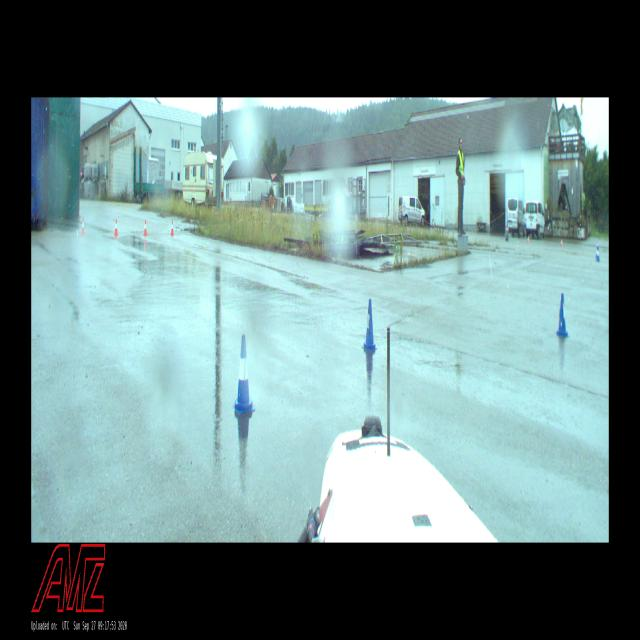blue_cone: (233, 335, 254, 414), (362, 300, 377, 350), (557, 294, 569, 337), (595, 245, 600, 261)
orange_cone: (114, 219, 118, 236), (144, 220, 148, 236), (80, 218, 84, 234), (171, 220, 174, 236), (527, 235, 529, 244), (560, 239, 562, 246)
